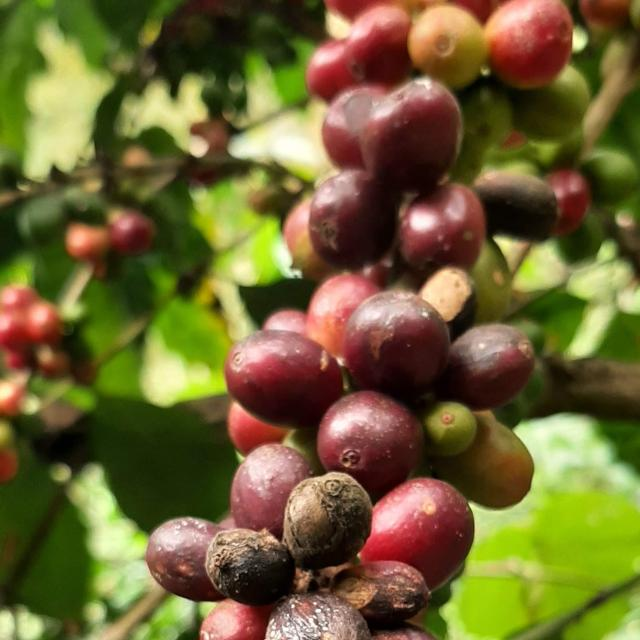green: (514, 65, 591, 137), (461, 84, 514, 147), (584, 148, 640, 203), (423, 402, 478, 457), (559, 212, 606, 262)
red: (360, 479, 475, 591), (360, 76, 463, 193), (224, 330, 343, 428), (343, 290, 451, 397), (317, 391, 425, 495), (283, 473, 373, 570), (309, 169, 396, 268), (438, 324, 536, 409), (231, 444, 312, 540), (399, 184, 487, 269), (205, 530, 295, 607), (145, 518, 224, 602), (307, 273, 381, 358), (334, 562, 430, 625), (474, 171, 559, 240), (323, 84, 388, 167), (346, 4, 412, 83), (265, 594, 371, 640), (227, 402, 289, 456), (199, 600, 274, 640), (306, 39, 356, 99), (262, 309, 307, 336)
yellow: (433, 411, 535, 509), (485, 0, 574, 88), (408, 3, 489, 88), (283, 199, 335, 281)
